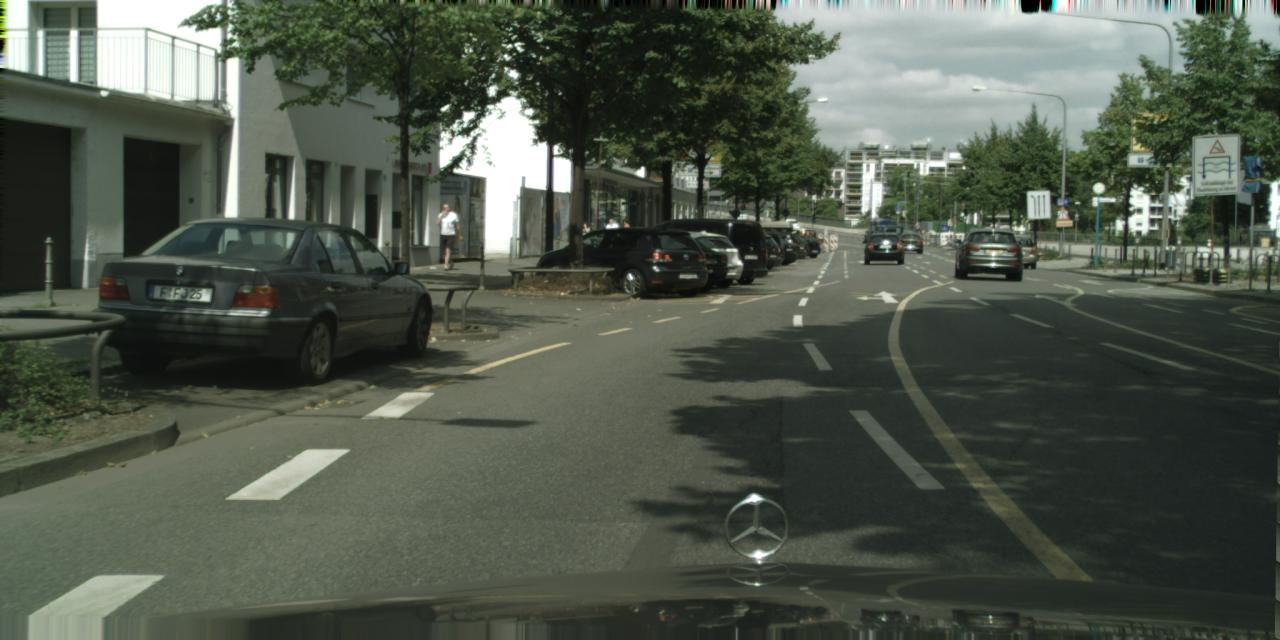ped: (434, 203, 460, 268), (604, 218, 618, 250), (579, 222, 591, 252), (620, 220, 630, 246), (912, 220, 919, 238)
